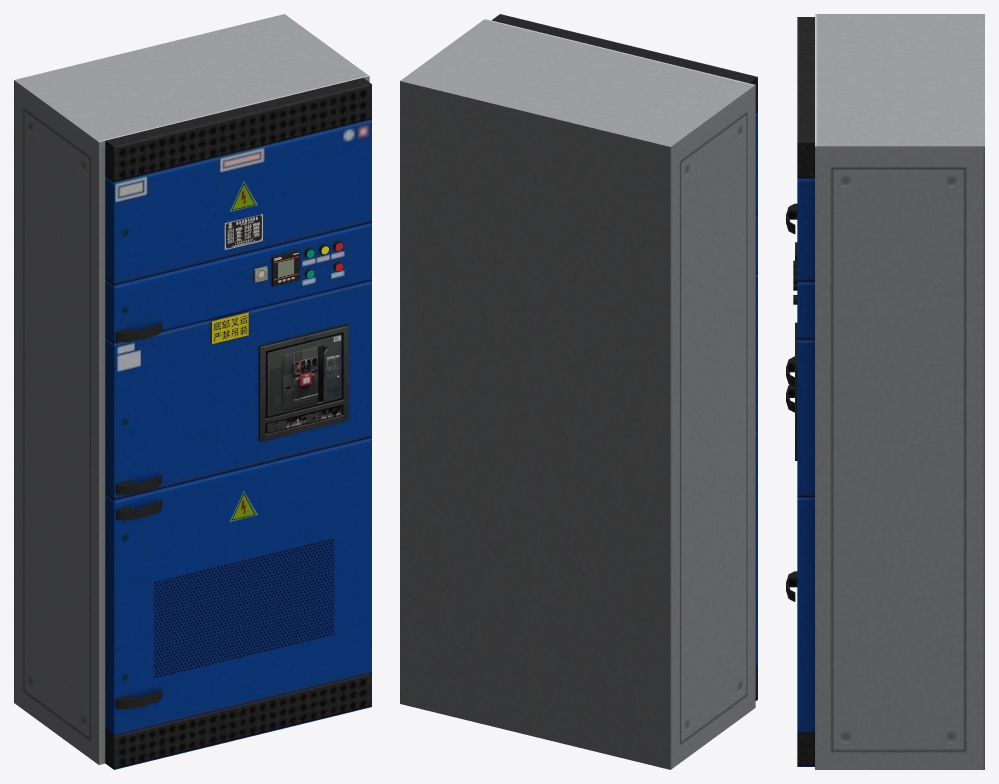
Rendered from LVBTC.glb.
3 renders of one model, left to right at view 1: azimuth 30°, elevation 25°; view 2: azimuth 150°, elevation 25°; view 3: azimuth 270°, elevation 25°, orthographic.
Visible parts, largest first — view 1: polySurface210; view 2: polySurface210; view 3: polySurface210.
Boxes of the visible parts, x1,y1,x2,y2 form: polySurface210: [14, 14, 371, 769]; polySurface210: [400, 14, 757, 769]; polySurface210: [786, 14, 984, 769].
Size of the model in its own units: 10 by 22 by 6.36.
1 material, 1 textured.
